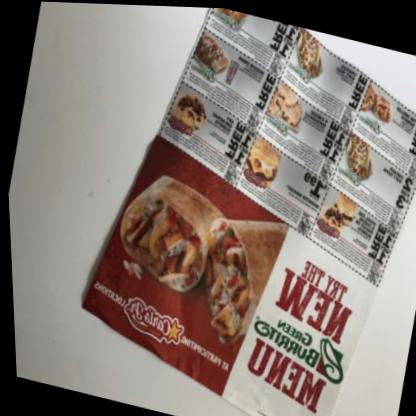Paper: (79, 6, 416, 416)
